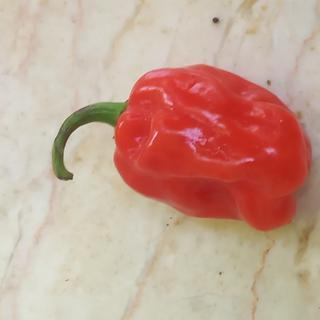Grade-A: (107, 57, 319, 237)
